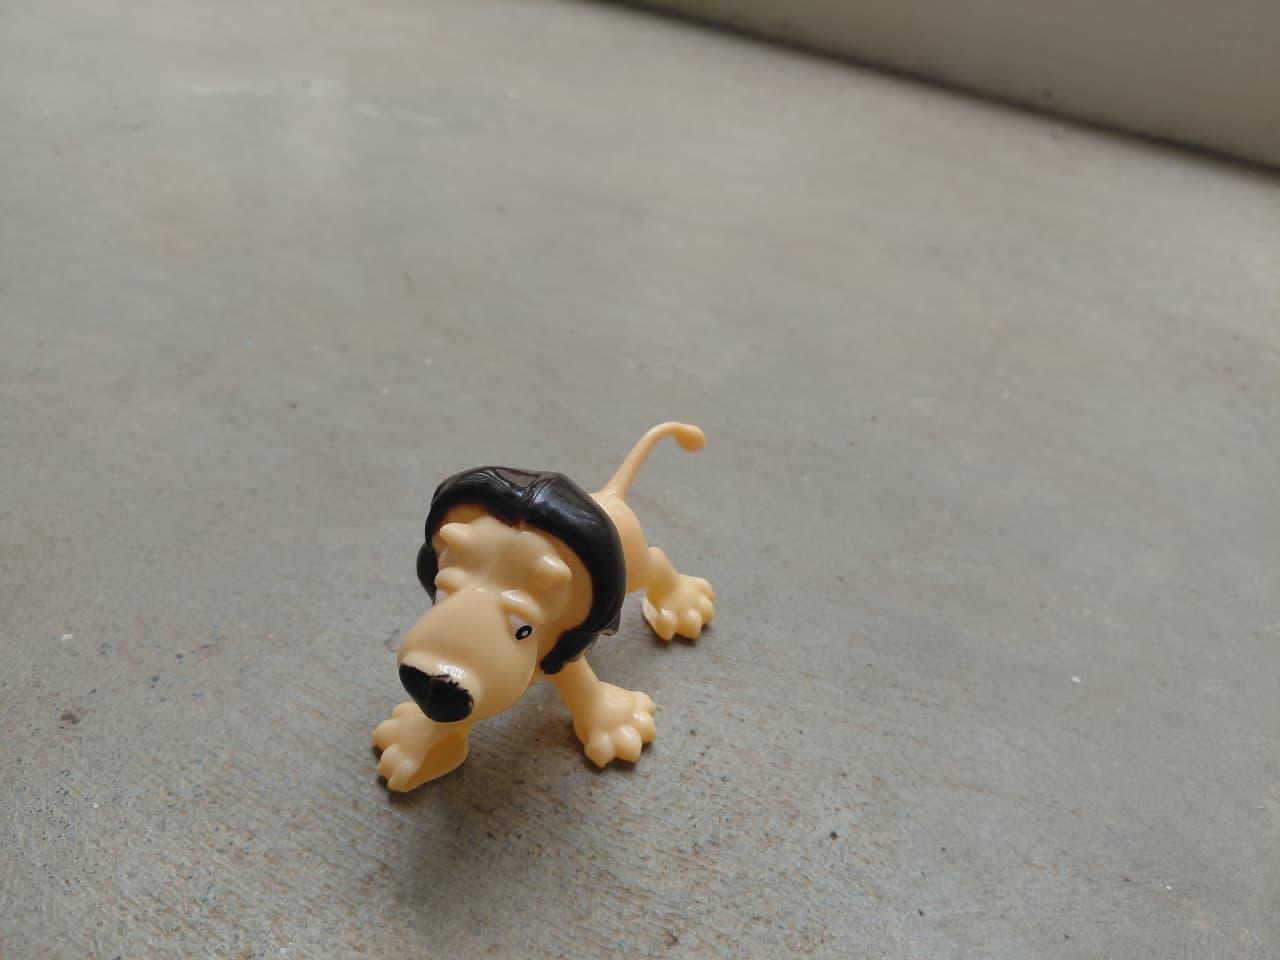lion: (354, 416, 724, 803)
